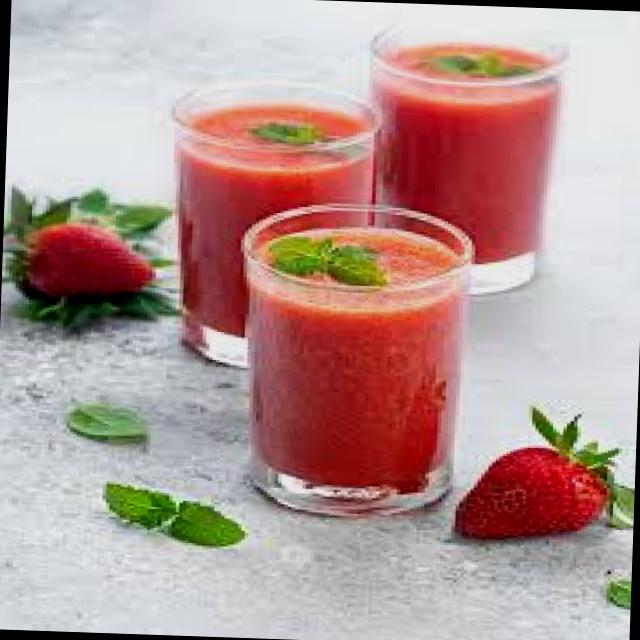strawberry: (438, 416, 622, 548), (10, 201, 182, 315)
